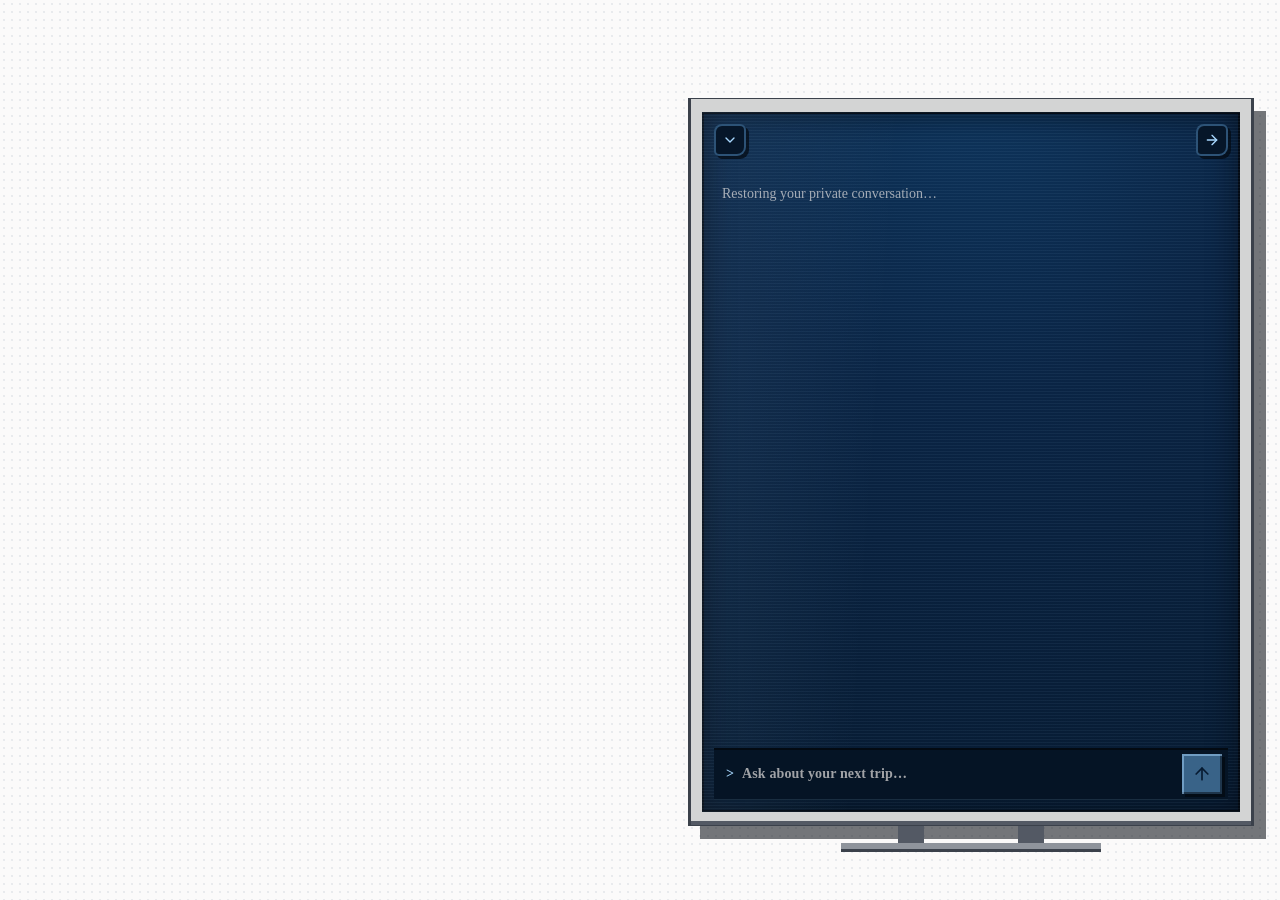
Scenario: when a durable run fails › names the planning failure and its reason instead of blaming the send
The width and height of the screenshot is (1280, 900).
Type "上海出发，12月10日去东京玩四天" into the text box named "Message Wanderly Agent" at [958, 774], box [742,764,1174,784]
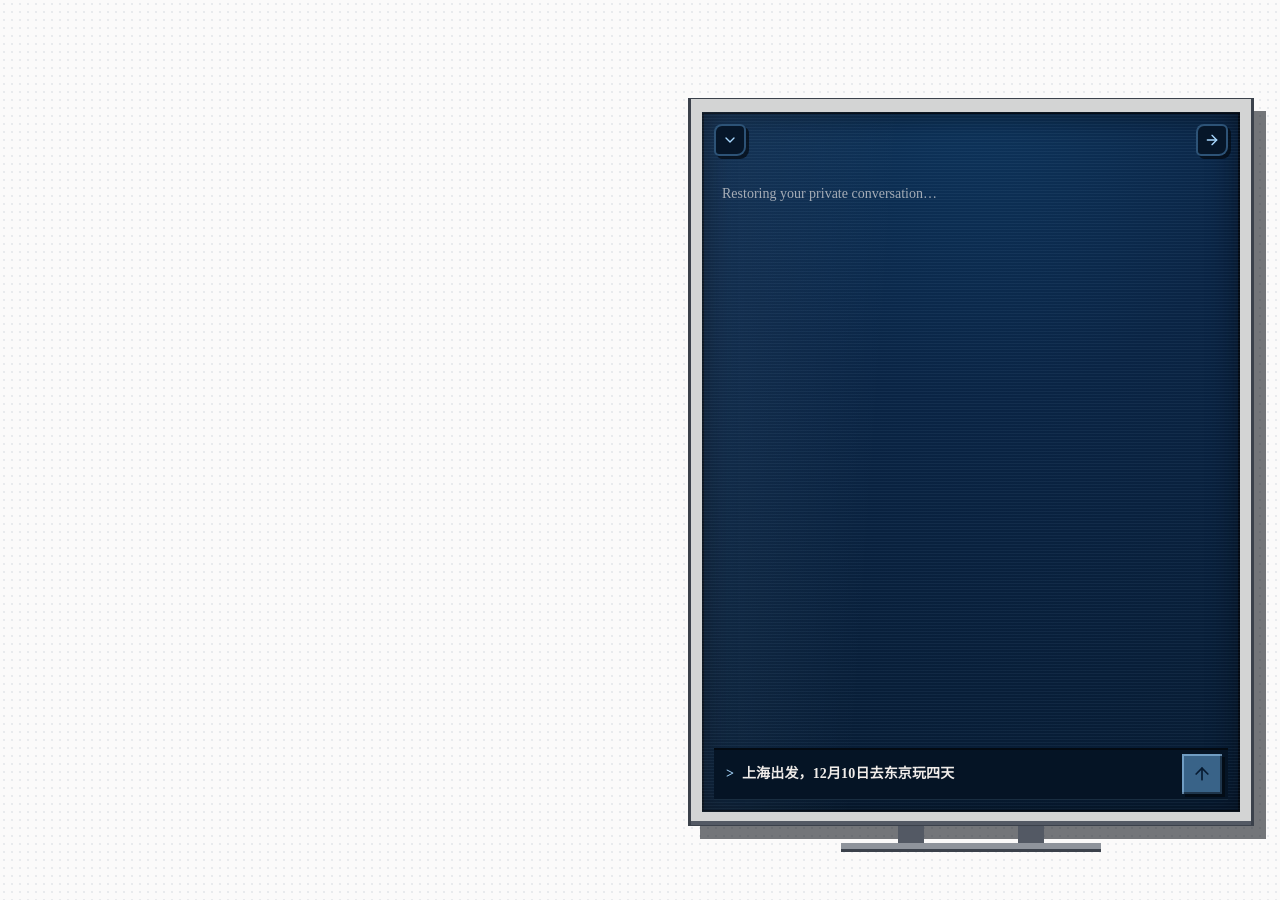
Click the button named "Send message" at [1202, 774], box [1182,754,1222,794]
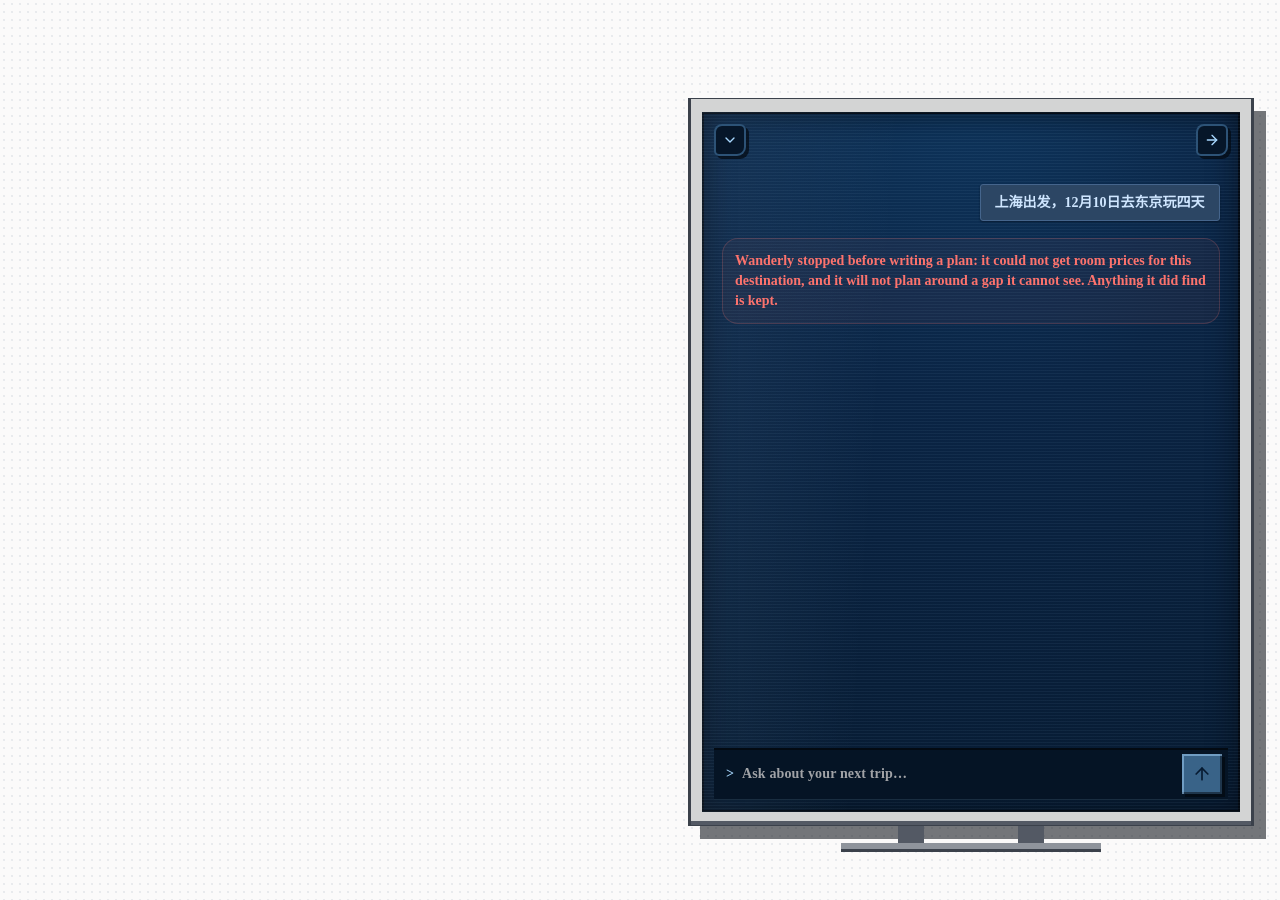
Check: the text "could not get room prices" is shown, box [735,253,1206,308]
